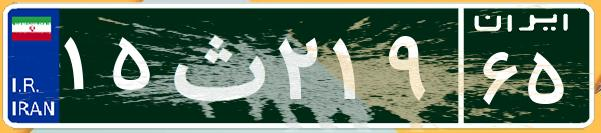1: (330, 28, 385, 110), (57, 26, 110, 107)
2: (273, 28, 330, 110)
5: (110, 28, 158, 105), (525, 38, 570, 115)
6: (475, 38, 525, 113)
9: (385, 28, 445, 110)
ث: (158, 15, 273, 115)
